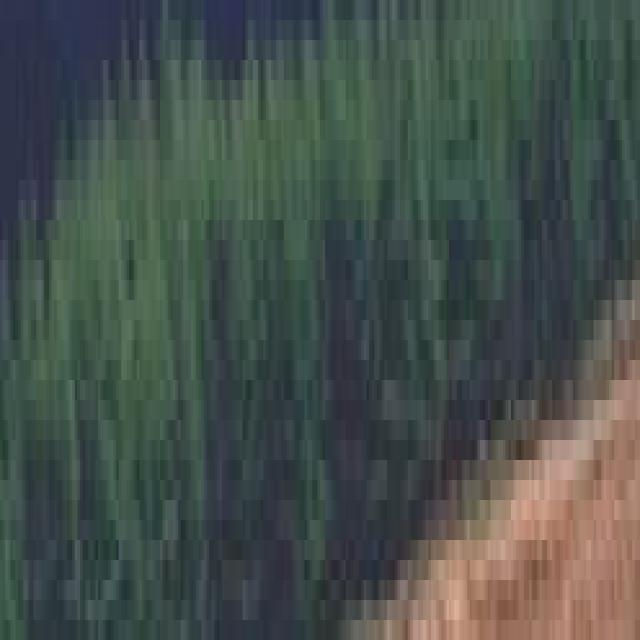nofire: (1, 2, 640, 640)
